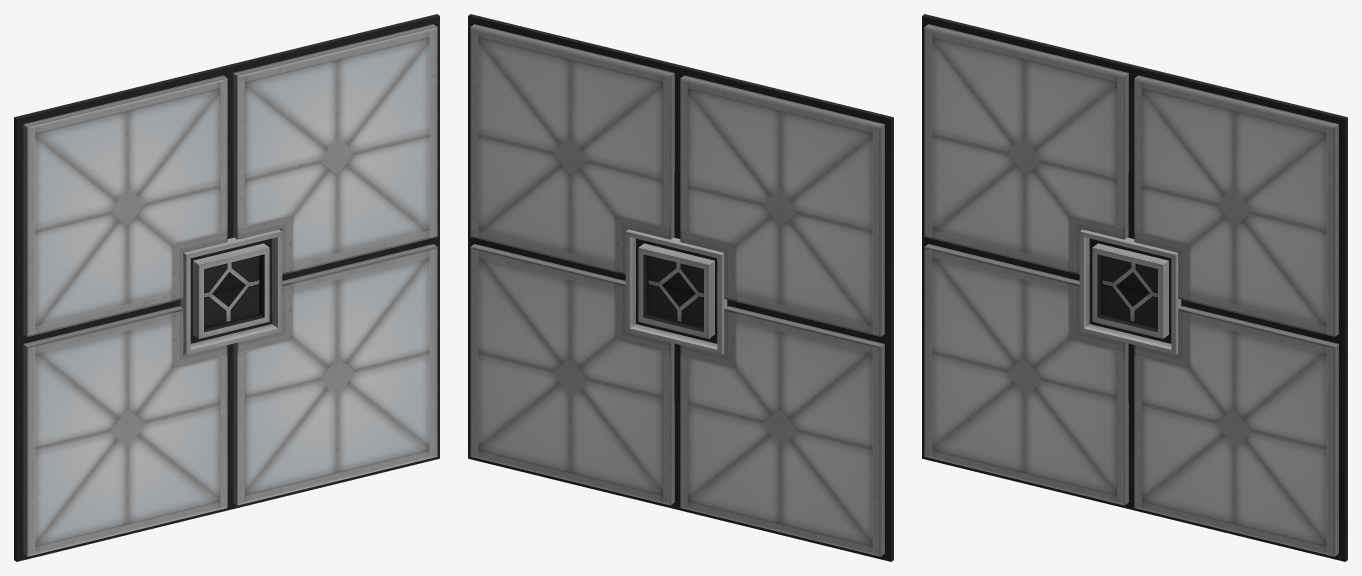
The model's file is wall.fbx.
The picture shows the model from 3 angles, left to right: view 1: azimuth 30°, elevation 25°; view 2: azimuth 150°, elevation 25°; view 3: azimuth 330°, elevation 25°; orthographic projection.
Visible parts, largest first — view 1: Plane003, Box001, Object004, Box003, Box002; view 2: Plane004, Box001, Object003, Box003, Box002; view 3: Plane003, Box001, Object004, Box003, Box002.
Part boxes in pixels (x1,y1,x2,y2): Plane003: [27, 27, 437, 556]; Box001: [14, 14, 439, 561]; Object004: [23, 24, 437, 556]; Box003: [204, 282, 259, 327]; Box002: [204, 255, 259, 295]; Plane004: [470, 27, 880, 556]; Box001: [468, 14, 893, 561]; Object003: [470, 24, 884, 556]; Box003: [648, 282, 703, 327]; Box002: [648, 255, 703, 295]; Plane003: [924, 27, 1334, 556]; Box001: [922, 14, 1347, 561]; Object004: [924, 24, 1338, 556]; Box003: [1102, 282, 1157, 327]; Box002: [1102, 255, 1157, 295].
Size of the model in its own units: 314 by 314 by 18.89.
